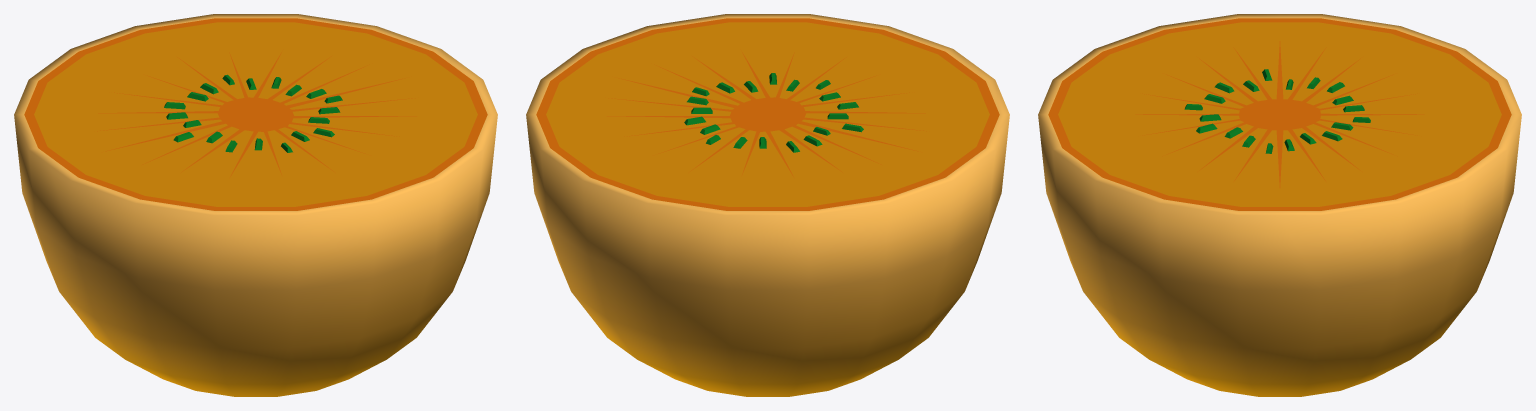
Rendered from Kiwi_half_02_gold.fbx.
The picture shows the model from 3 angles, left to right: view 1: azimuth 30°, elevation 25°; view 2: azimuth 150°, elevation 25°; view 3: azimuth 270°, elevation 25°; orthographic projection.
Visible parts, largest first — view 1: Kiwi_half_02_gold; view 2: Kiwi_half_02_gold; view 3: Kiwi_half_02_gold.
Boxes of the visible parts, x1,y1,x2,y2 form: Kiwi_half_02_gold: (14, 14, 497, 396); Kiwi_half_02_gold: (526, 14, 1009, 396); Kiwi_half_02_gold: (1038, 14, 1521, 396).
Bounding box in the file's own units: 75.82 × 45.08 × 76.99.
